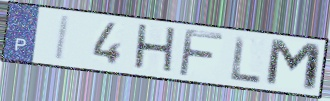4: (90, 21, 125, 67)
F: (176, 27, 226, 79)
H: (131, 22, 178, 77)
I: (53, 14, 73, 63)
L: (230, 34, 263, 85)
M: (263, 37, 325, 94)
